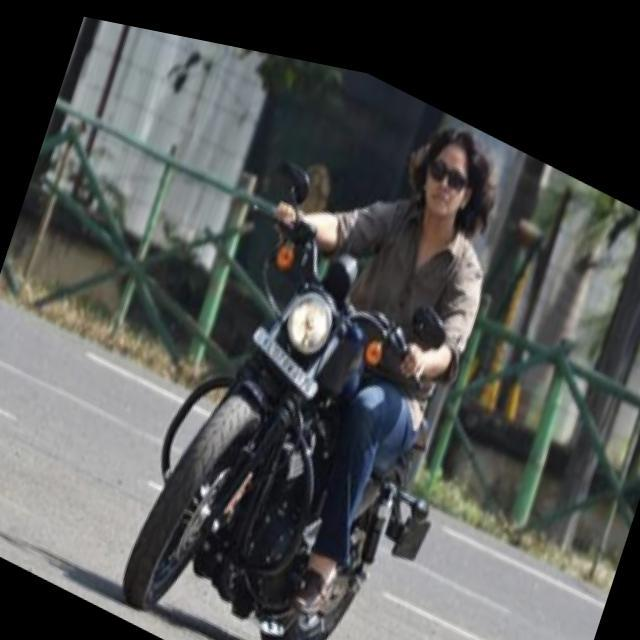Nonhelmet: (406, 119, 488, 244)
